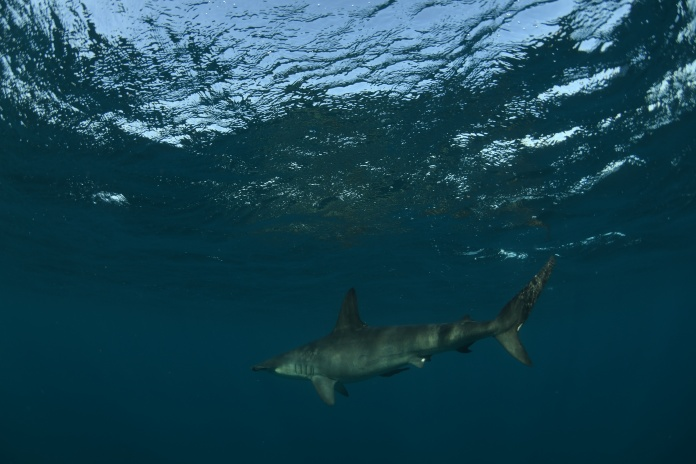Hammer: (235, 242, 567, 411)
